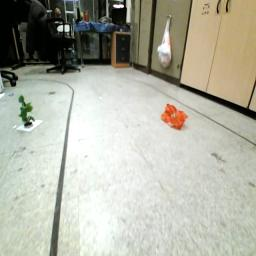herb: (17, 95, 39, 126)
wild: (162, 104, 190, 131)
